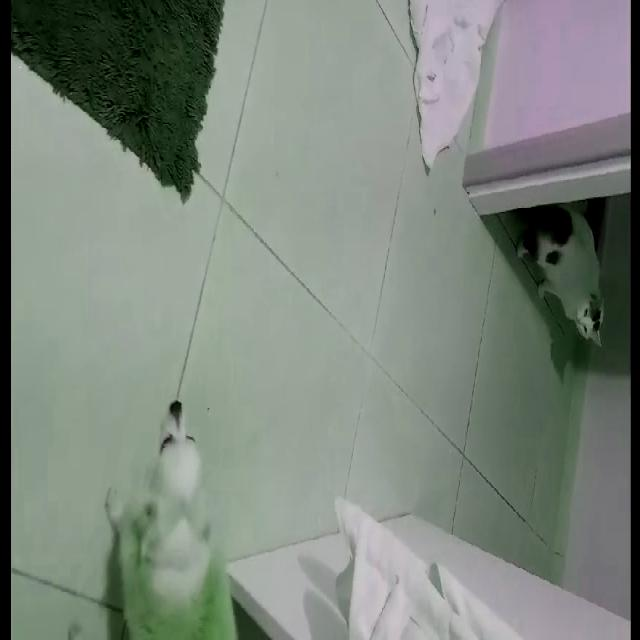Simba: (492, 207, 612, 369)
Theo: (106, 397, 260, 639)
